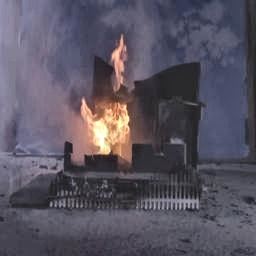fire: (77, 64, 142, 161)
